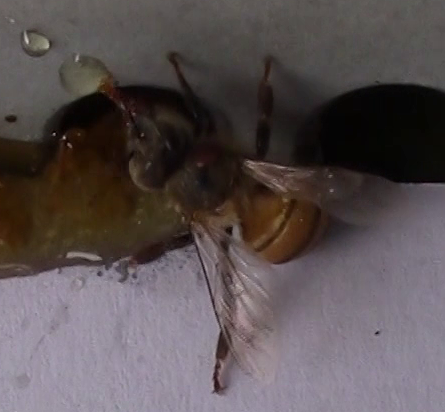Varroa destructor: (187, 139, 224, 167)
